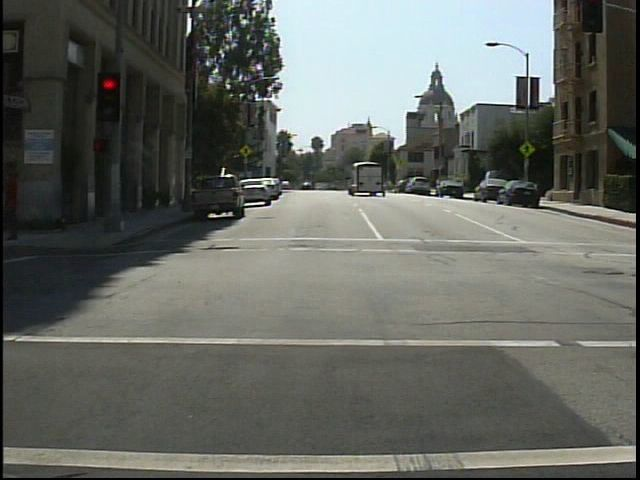person: (5, 156, 34, 239)
